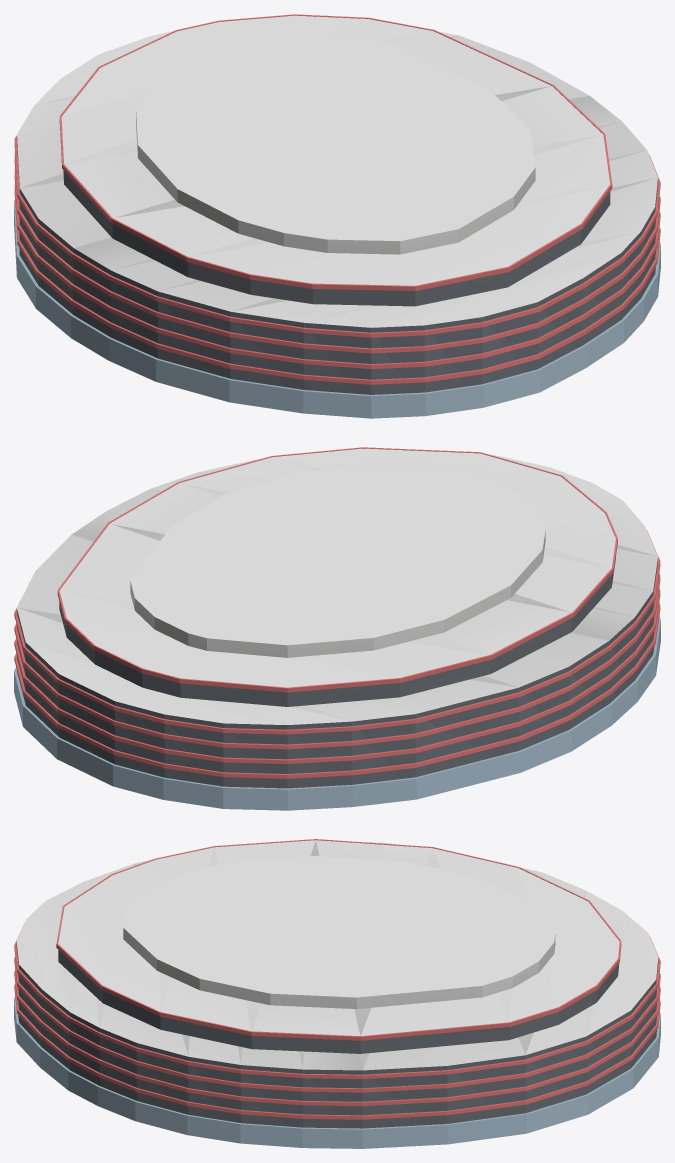
The model's file is coca_cola_arena_lod1.glb.
The picture shows the model from 3 angles, top to bottom: view 1: azimuth 30°, elevation 25°; view 2: azimuth 150°, elevation 25°; view 3: azimuth 270°, elevation 25°; orthographic projection. The views are drawn at different scales.
Visible parts, largest first — view 1: coca_cola_arena_lod1; view 2: coca_cola_arena_lod1; view 3: coca_cola_arena_lod1.
Part boxes in pixels (x1=…): coca_cola_arena_lod1: x1=14, y1=14, x2=660, y2=418; coca_cola_arena_lod1: x1=14, y1=447, x2=660, y2=810; coca_cola_arena_lod1: x1=14, y1=839, x2=660, y2=1148.
Bounding box in the file's own units: 128 × 27.5 × 151.
